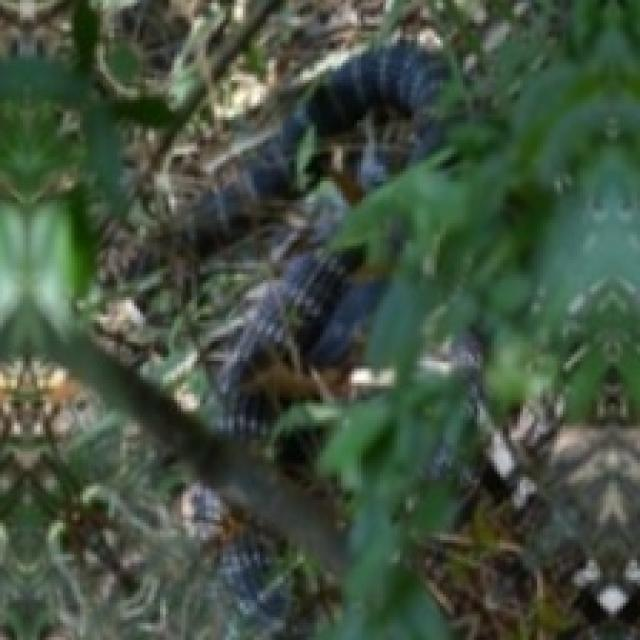king cobra: (183, 43, 443, 434), (346, 377, 469, 626)
